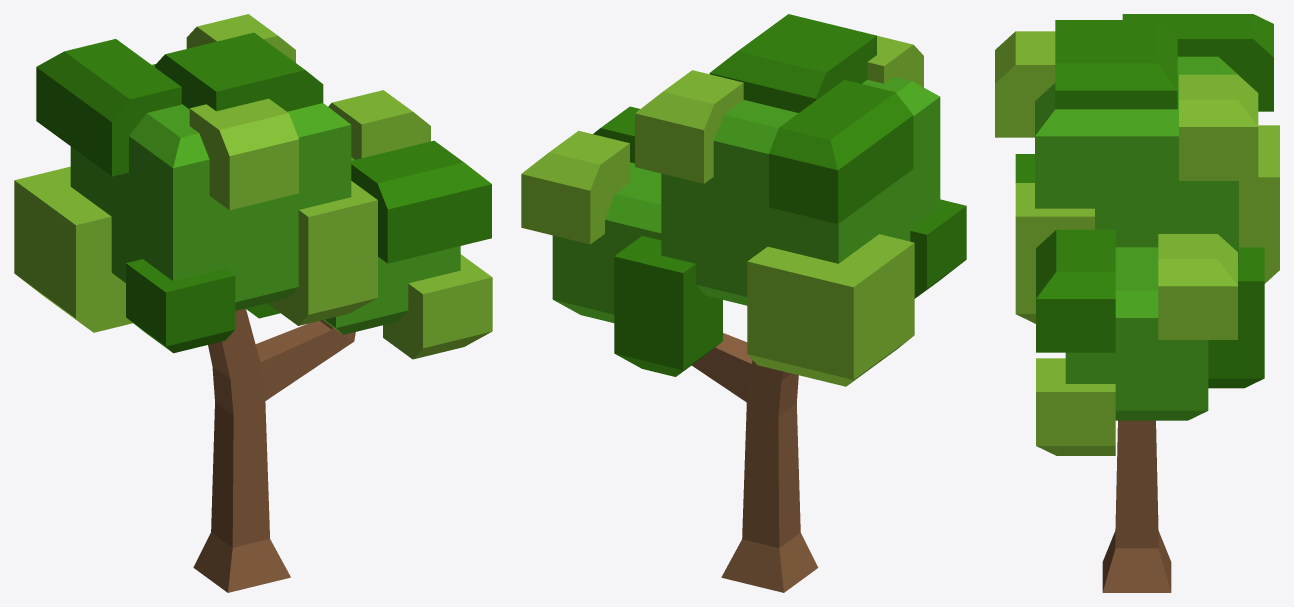
Rendered from Tree_02.fbx.
The picture shows the model from 3 angles, left to right: view 1: azimuth 30°, elevation 25°; view 2: azimuth 150°, elevation 25°; view 3: azimuth 270°, elevation 25°; orthographic projection.
Visible parts, largest first — view 1: Tree_02; view 2: Tree_02; view 3: Tree_02.
Boxes of the visible parts, x1=… form: Tree_02: x1=14, y1=14, x2=492, y2=592; Tree_02: x1=521, y1=14, x2=966, y2=592; Tree_02: x1=995, y1=14, x2=1279, y2=592.
Bounding box in the file's own units: 287 × 407 × 200.
Materials: 1 (1 with a texture image).
